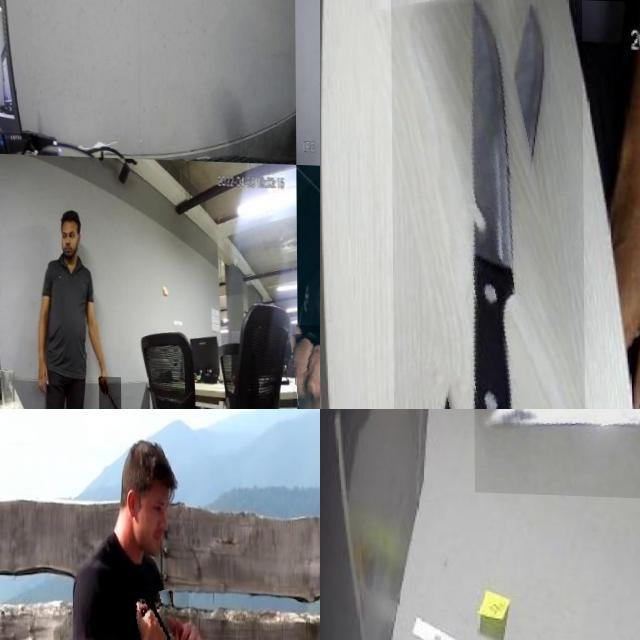-: (391, 0, 585, 409), (473, 409, 640, 497), (113, 0, 257, 51), (138, 588, 189, 640), (98, 375, 120, 409)
